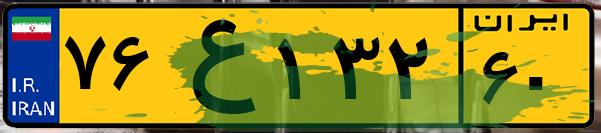0: (525, 38, 570, 115)
1: (270, 28, 330, 110)
2: (385, 28, 445, 110)
3: (330, 28, 385, 110)
6: (475, 38, 525, 113), (110, 28, 158, 98)
7: (57, 26, 110, 100)
ع: (158, 12, 270, 120)
